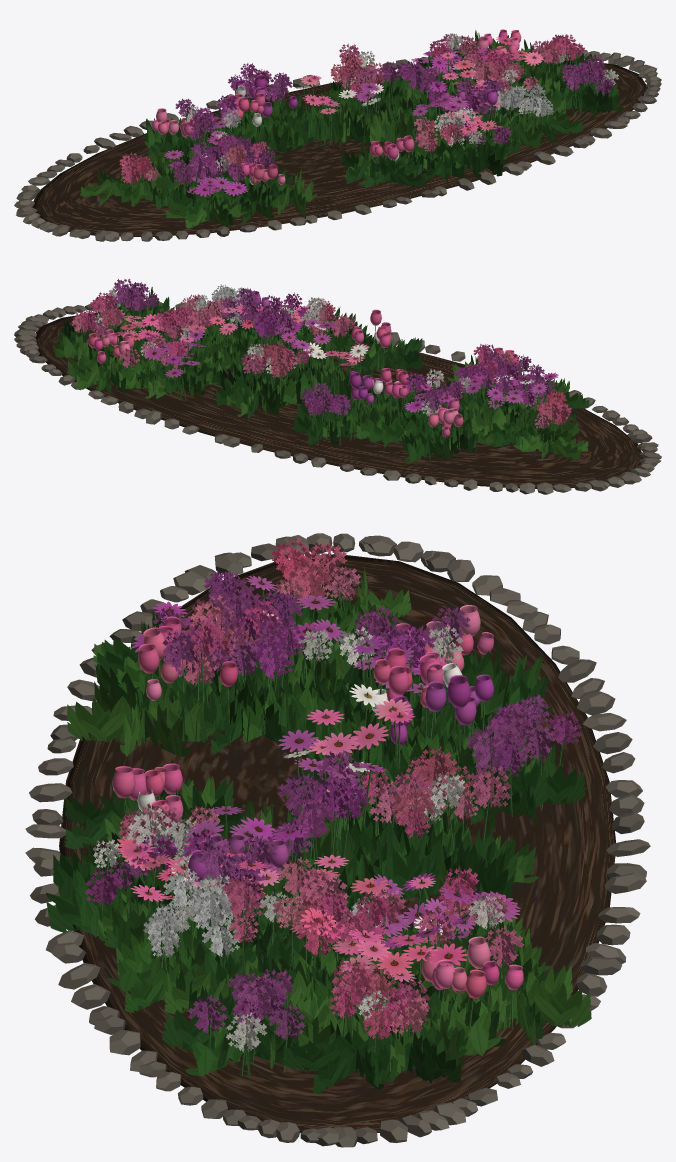
The model's file is flower-bed-9.glb.
The picture shows the model from 3 angles, top to bottom: view 1: azimuth 30°, elevation 25°; view 2: azimuth 150°, elevation 25°; view 3: azimuth 270°, elevation 25°; orthographic projection. The views are drawn at different scales.
Visible parts, largest first — view 1: flower-bed-9_FlowerFoliage, flower-bed-9_FlowerFloret, flower-bed-9_Mulch, flower-bed-9_EdgeStone, flower-bed-9_FlowerDaisy, flower-bed-9_FlowerCup, flower-bed-9_FlowerStem; view 2: flower-bed-9_FlowerFoliage, flower-bed-9_Mulch, flower-bed-9_FlowerFloret, flower-bed-9_EdgeStone, flower-bed-9_FlowerDaisy, flower-bed-9_FlowerCup, flower-bed-9_FlowerStem; view 3: flower-bed-9_FlowerFoliage, flower-bed-9_FlowerFloret, flower-bed-9_Mulch, flower-bed-9_EdgeStone, flower-bed-9_FlowerDaisy, flower-bed-9_FlowerCup, flower-bed-9_FlowerStem.
Part boxes in pixels (box(x1,y1,x2,y2)): flower-bed-9_FlowerFoliage: box(80, 30, 624, 228); flower-bed-9_FlowerFloret: box(119, 33, 618, 185); flower-bed-9_Mulch: box(31, 62, 647, 236); flower-bed-9_EdgeStone: box(14, 48, 661, 241); flower-bed-9_FlowerDaisy: box(164, 36, 543, 196); flower-bed-9_FlowerCup: box(152, 29, 521, 184); flower-bed-9_FlowerStem: box(131, 38, 604, 208); flower-bed-9_FlowerFoliage: box(53, 287, 589, 465); flower-bed-9_Mulch: box(35, 312, 643, 488); flower-bed-9_FlowerFloret: box(72, 278, 571, 428); flower-bed-9_EdgeStone: box(14, 302, 661, 494); flower-bed-9_FlowerDaisy: box(108, 304, 558, 412); flower-bed-9_FlowerCup: box(88, 291, 519, 437); flower-bed-9_FlowerStem: box(80, 300, 562, 449); flower-bed-9_FlowerFoliage: box(46, 567, 591, 1093); flower-bed-9_FlowerFloret: box(84, 537, 581, 1052); flower-bed-9_Mulch: box(59, 554, 615, 1133); flower-bed-9_EdgeStone: box(25, 533, 650, 1147); flower-bed-9_FlowerDaisy: box(117, 575, 520, 982); flower-bed-9_FlowerCup: box(112, 605, 523, 998); flower-bed-9_FlowerStem: box(101, 574, 564, 1076).
Size of the model in its own units: 5.98 by 0.7159 by 2.58.
Materials: 7 (4 with a texture image).
